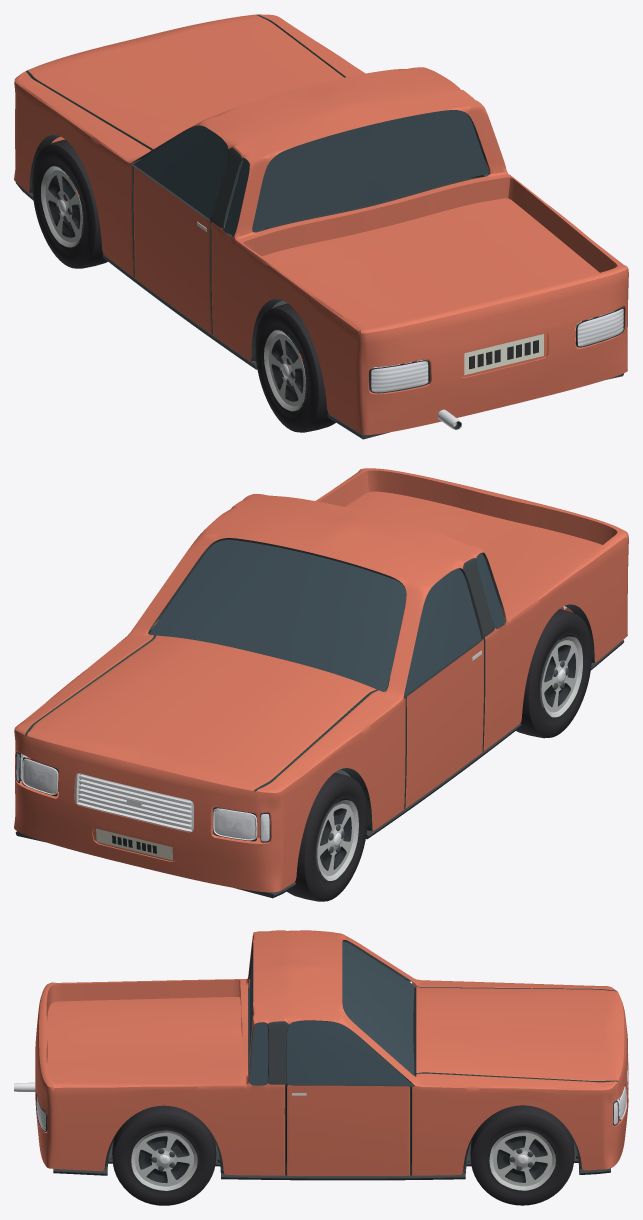
The model's file is forge_closed_pickup.fbx.
3 renders of one model, top to bottom at view 1: azimuth 30°, elevation 25°; view 2: azimuth 150°, elevation 25°; view 3: azimuth 270°, elevation 25°, orthographic. The views are drawn at different scales.
Visible parts, largest first — view 1: Body, Wheel_RL_Mesh, Wheel_FL_Mesh; view 2: Body, Wheel_FL_Mesh, Wheel_RL_Mesh; view 3: Body, Wheel_FR_Mesh, Wheel_RR_Mesh.
Boxes of the visible parts, x1,y1,x2,y2 form: Body: (14, 14, 628, 439); Wheel_RL_Mesh: (255, 303, 335, 432); Wheel_FL_Mesh: (32, 139, 107, 268); Body: (14, 468, 628, 898); Wheel_FL_Mesh: (287, 772, 367, 901); Wheel_RL_Mesh: (516, 609, 591, 738); Body: (14, 930, 628, 1180); Wheel_FR_Mesh: (470, 1105, 574, 1205); Wheel_RR_Mesh: (112, 1105, 216, 1205).
Size of the model in its own units: 161 by 129 by 383.
